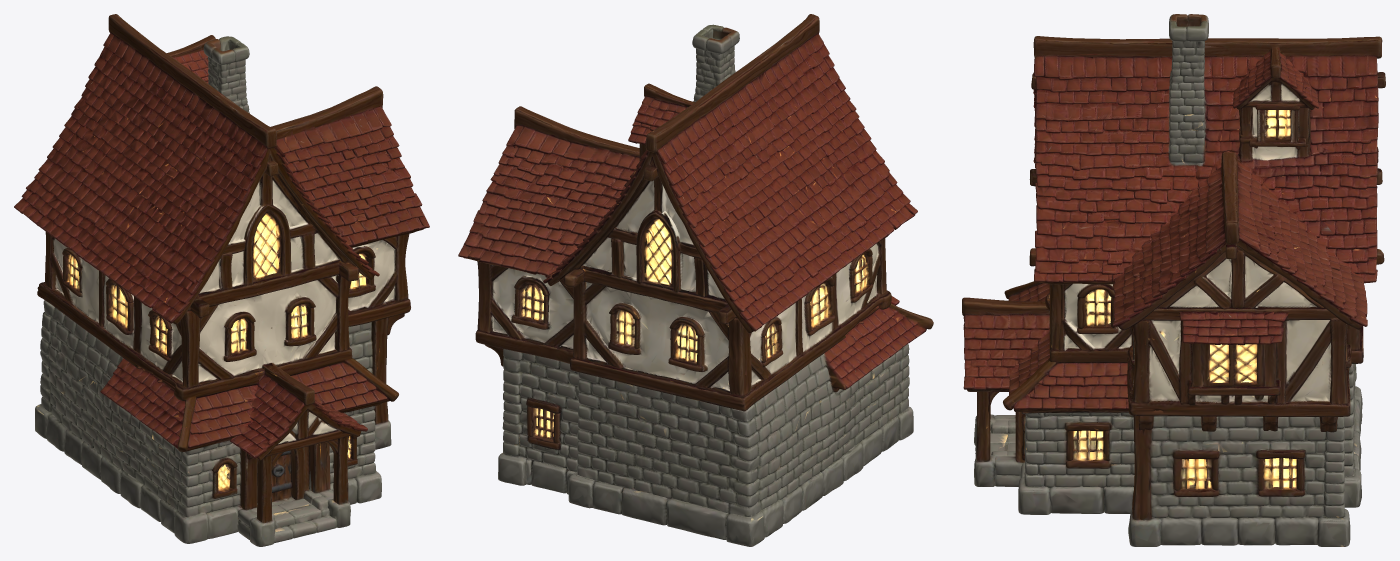
File: OakHillCornerHouse_300k.glb
3 views of the same model, side by side, from view 1: azimuth 30°, elevation 25°; view 2: azimuth 150°, elevation 25°; view 3: azimuth 270°, elevation 25° (orthographic). The views are drawn at different scales.
Visible parts, largest first — view 1: Mesh_0; view 2: Mesh_0; view 3: Mesh_0.
Boxes of the visible parts, x1,y1,x2,y2 form: Mesh_0: (14,14,429,546); Mesh_0: (458,14,933,546); Mesh_0: (962,14,1385,546).
Bounding box in the file's own units: 1.48 × 1.9 × 1.62.
Materials: 1 (1 with a texture image).
